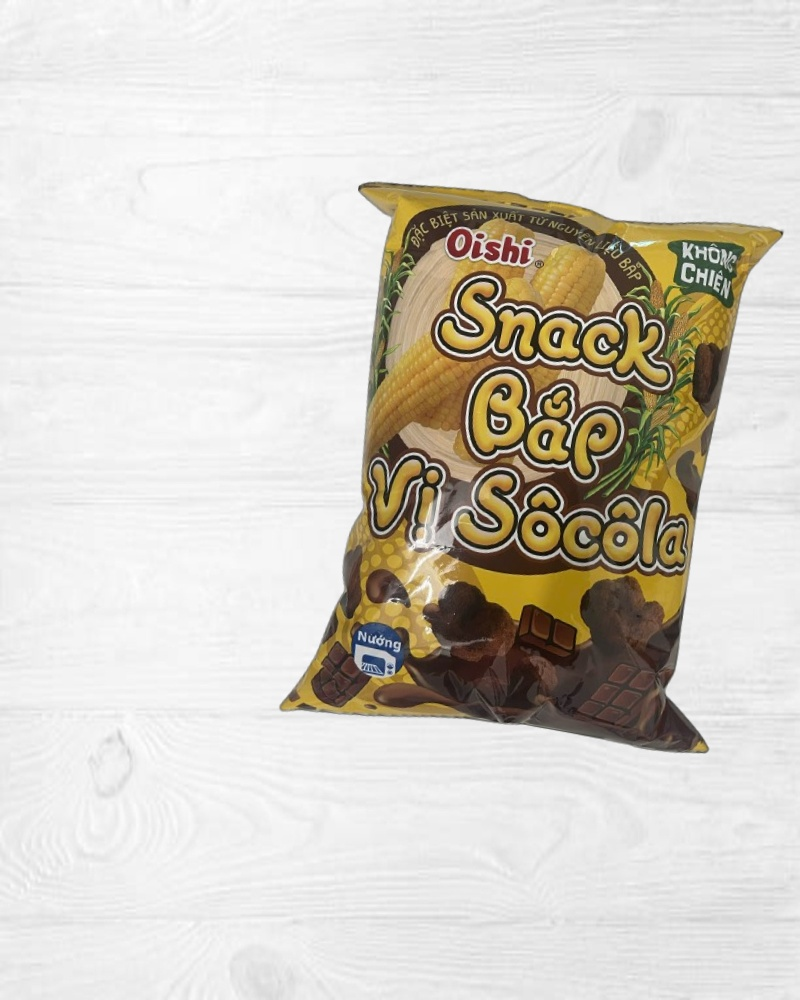Snack socola: (272, 161, 800, 774)
